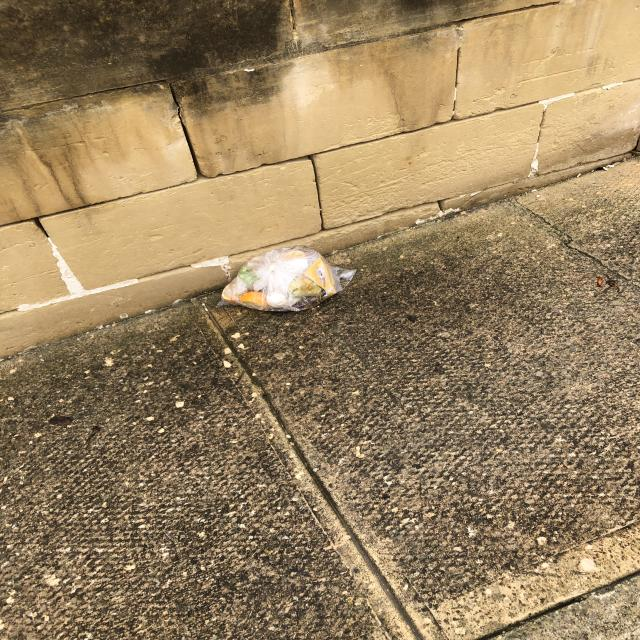Organic Waste -White Bag-: (217, 248, 359, 313)
